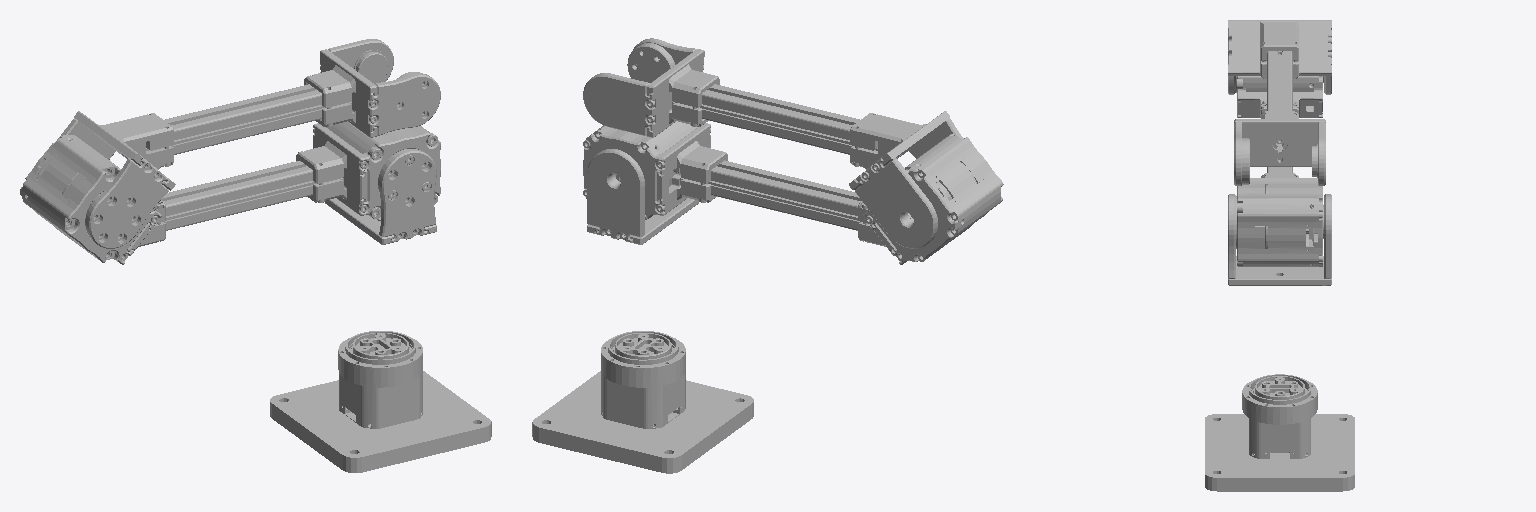
robot.urdf — arm_description:
<?xml version="1.0" encoding="utf-8"?>
<!-- This URDF was automatically created by SolidWorks to URDF Exporter! Originally created by [author] ([email redacted]) 
     Commit Version: 1.6.0-4-g7f85cfe  Build Version: 1.6.7995.38578
     For more information, please see http://wiki.ros.org/sw_urdf_exporter -->
<robot
  name="arm_description">
  <link
    name="base_link">
    <inertial>
      <origin
        xyz="0.000580729801218715 0.000594257238339935 0.0138627214076124"
        rpy="0 0 0" />
      <mass
        value="0.577681125567092" />
      <inertia
        ixx="0.000440477275812713"
        ixy="3.07910264277379E-05"
        ixz="1.05412703444915E-07"
        iyy="0.000440711546924099"
        iyz="8.21266138002711E-08"
        izz="0.000838744842125512" />
    </inertial>
    <visual>
      <origin
        xyz="0 0 0"
        rpy="0 0 0" />
      <geometry>
        <mesh
          filename="package://arm_description/meshes/base_link.STL" />
      </geometry>
      <material
        name="">
        <color
          rgba="0.752941176470588 0.752941176470588 0.752941176470588 1" />
      </material>
    </visual>
    <collision>
      <origin
        xyz="0 0 0"
        rpy="0 0 0" />
      <geometry>
        <mesh
          filename="package://arm_description/meshes/base_link.STL" />
      </geometry>
    </collision>
  </link>
  <link
    name="Link_1">
    <inertial>
      <origin
        xyz="5.24644356084125E-09 -0.00226935002516255 0.0269059764515369"
        rpy="0 0 0" />
      <mass
        value="0.160224572824666" />
      <inertia
        ixx="5.78340495593595E-05"
        ixy="-1.12901342565449E-12"
        ixz="3.21170933594114E-11"
        iyy="5.53191645825308E-05"
        iyz="-8.10768517081018E-07"
        izz="5.03363750358881E-05" />
    </inertial>
    <visual>
      <origin
        xyz="0 0 0"
        rpy="0 0 0" />
      <geometry>
        <mesh
          filename="package://arm_description/meshes/Link_1.STL" />
      </geometry>
      <material
        name="">
        <color
          rgba="0.752941176470588 0.752941176470588 0.752941176470588 1" />
      </material>
    </visual>
    <collision>
      <origin
        xyz="0 0 0"
        rpy="0 0 0" />
      <geometry>
        <mesh
          filename="package://arm_description/meshes/Link_1.STL" />
      </geometry>
    </collision>
  </link>
  <joint
    name="Joint_1"
    type="revolute">
    <origin
      xyz="0 0 0.0587"
      rpy="0 0 0" />
    <parent
      link="base_link" />
    <child
      link="Link_1" />
    <axis
      xyz="0 0 1" />
    <limit
      lower="-3.14"
      upper="3.14"
      effort="1.11"
      velocity="100.11" />
  </joint>
  <link
    name="Link_2">
    <inertial>
      <origin
        xyz="0.10000 0.01061165 0.0346733369707856"
        rpy="0 0 0" />
      <mass
        value="1.4000" />
      <inertia
        ixx="0.000176770166827269"
        ixy="1.45565467561441E-06"
        ixz="-3.34686431377792E-07"
        iyy="0.000359576824397334"
        iyz="9.92982961301292E-08"
        izz="0.000445920617902061" />
    </inertial>
    <visual>
      <origin
        xyz="0 0 0"
        rpy="0 0 0" />
      <geometry>
        <mesh
          filename="package://arm_description/meshes/Link_2.STL" />
      </geometry>
      <material
        name="">
        <color
          rgba="0.752941176470588 0.752941176470588 0.752941176470588 1" />
      </material>
    </visual>
    <collision>
      <origin
        xyz="0 0 0"
        rpy="0 0 0" />
      <geometry>
        <mesh
          filename="package://arm_description/meshes/Link_2.STL" />
      </geometry>
    </collision>
  </link>
  <joint
    name="Joint_2"
    type="revolute">
    <origin
      xyz="0 -0.03525 0.0472"
      rpy="1.5708 0 -3.1416" />
    <parent
      link="Link_1" />
    <child
      link="Link_2" />
    <axis
      xyz="0 0 1" />
    <limit
      lower="-3.14"
      upper="3.14"
      effort="1.11"
      velocity="100.11" />
  </joint>
  <link
    name="Link_3">
    <inertial>
      <origin
        xyz="0.14000 -0.0258791787102304 0.0342371663122825"
        rpy="0 0 0" />
      <mass
        value="0.47" />
      <inertia
        ixx="0.000104459518816998"
        ixy="4.10997957100013E-06"
        ixz="2.44233607003561E-07"
        iyy="0.000295954517315169"
        iyz="-5.73301400175702E-07"
        izz="0.000298125677435807" />
    </inertial>
    <visual>
      <origin
        xyz="0 0 0"
        rpy="0 0 0" />
      <geometry>
        <mesh
          filename="package://arm_description/meshes/Link_3.STL" />
      </geometry>
      <material
        name="">
        <color
          rgba="0.752941176470588 0.752941176470588 0.752941176470588 1" />
      </material>
    </visual>
    <collision>
      <origin
        xyz="0 0 0"
        rpy="0 0 0" />
      <geometry>
        <mesh
          filename="package://arm_description/meshes/Link_3.STL" />
      </geometry>
    </collision>
  </link>
  <joint
    name="Joint_3"
    type="revolute">
    <origin
      xyz="0.23882 0.025456 0"
      rpy="0 0 3.1416" />
    <parent
      link="Link_2" />
    <child
      link="Link_3" />
    <axis
      xyz="0 0 -1" />
    <limit
      lower="-3.14"
      upper="3.14"
      effort="1.11"
      velocity="100.11" />
  </joint>
  <link
    name="Link_4">
    <inertial>
      <origin
        xyz="0.02231646 -0.01000 0.0309045034202118"
        rpy="0 0 0" />
      <mass
        value="0.5000" />
      <inertia
        ixx="4.98253735749115E-05"
        ixy="4.06718946477512E-06"
        ixz="-6.98716282428905E-08"
        iyy="6.65735705336771E-05"
        iyz="2.70219024644377E-08"
        izz="8.03771952558554E-05" />
    </inertial>
    <visual>
      <origin
        xyz="0 0 0"
        rpy="0 0 0" />
      <geometry>
        <mesh
          filename="package://arm_description/meshes/Link_4.STL" />
      </geometry>
      <material
        name="">
        <color
          rgba="0.752941176470588 0.752941176470588 0.752941176470588 1" />
      </material>
    </visual>
    <collision>
      <origin
        xyz="0 0 0"
        rpy="0 0 0" />
      <geometry>
        <mesh
          filename="package://arm_description/meshes/Link_4.STL" />
      </geometry>
    </collision>
  </link>
  <joint
    name="Joint_4"
    type="revolute">
    <origin
      xyz="0.24753 -0.032173 0.00505"
      rpy="0 0 0" />
    <parent
      link="Link_3" />
    <child
      link="Link_4" />
    <axis
      xyz="0 0 1" />
    <limit
      lower="-3.14"
      upper="3.14"
      effort="1.11"
      velocity="100.11" />
  </joint>
  <link
    name="Link_5">
    <inertial>
      <origin
        xyz="-6.834E-05 0.005 -0.03014484"
        rpy="0 0 0" />
      <mass
        value="0.2240000" />
      <inertia
        ixx="1.33557993744373E-05"
        ixy="-1.05249601159428E-10"
        ixz="-8.23823830487167E-08"
        iyy="2.10151224363195E-05"
        iyz="-1.06649623110132E-07"
        izz="1.31422737791213E-05" />
    </inertial>
    <visual>
      <origin
        xyz="0 0 0"
        rpy="0 0 0" />
      <geometry>
        <mesh
          filename="package://arm_description/meshes/Link_5.STL" />
      </geometry>
      <material
        name="">
        <color
          rgba="0.752941176470588 0.752941176470588 0.752941176470588 1" />
      </material>
    </visual>
    <collision>
      <origin
        xyz="0 0 0"
        rpy="0 0 0" />
      <geometry>
        <mesh
          filename="package://arm_description/meshes/Link_5.STL" />
      </geometry>
    </collision>
  </link>
  <joint
    name="Joint_5"
    type="revolute">
    <origin
      xyz="0.063977 -0.035002 0.03015"
      rpy="1.5708 -1.5708 0" />
    <parent
      link="Link_4" />
    <child
      link="Link_5" />
    <axis
      xyz="0 0 -1" />
    <limit
      lower="-3.14"
      upper="3.14"
      effort="1.11"
      velocity="100.11" />
  </joint>
  <link
    name="Link_6">
    <inertial>
      <origin
        xyz="1.83198485845665E-05 1.95190519005108E-05 0.0600000"
        rpy="0 0 0" />
      <mass
        value="0.38" />
      <inertia
        ixx="0.000405465521516909"
        ixy="8.23849915931215E-08"
        ixz="-1.411672841195E-08"
        iyy="2.4293904094606E-05"
        iyz="-8.40048811483653E-09"
        izz="0.000417491022390122" />
    </inertial>
    <visual>
      <origin
        xyz="0 0 0"
        rpy="0 0 0" />
      <geometry>
        <mesh
          filename="package://arm_description/meshes/Link_6.STL" />
      </geometry>
      <material
        name="">
        <color
          rgba="0.752941176470588 0.752941176470588 0.752941176470588 1" />
      </material>
    </visual>
    <collision>
      <origin
        xyz="0 0 0"
        rpy="0 0 0" />
      <geometry>
        <mesh
          filename="package://arm_description/meshes/Link_6.STL" />
      </geometry>
    </collision>
  </link>
  <joint
    name="Joint_6"
    type="revolute">
    <origin
      xyz="0 -0.025 -0.0325"
      rpy="1.5708 1.5708 0" />
    <parent
      link="Link_5" />
    <child
      link="Link_6" />
    <axis
      xyz="0 0 1" />
    <limit
      lower="-3.14"
      upper="3.14"
      effort="1.11"
      velocity="100.11" />
  </joint>
</robot>

--- Facts derived from the render (not from the file) ---
Views: 3 orthographic renders of the robot side by side, from view 1: azimuth 30°, elevation 25°; view 2: azimuth 150°, elevation 25°; view 3: azimuth 270°, elevation 25°.
Model arm_description with 7 links and 6 joints (6 revolute), rooted at base_link, posed every joint at zero.
Visible links, largest first — view 1: Link_3, Link_2, base_link, Link_1; view 2: Link_3, Link_2, base_link, Link_1; view 3: base_link, Link_3, Link_2, Link_1.
Link boxes in pixels (x1,y1,x2,y2): Link_3: (54,39,440,248); Link_2: (20,121,440,264); base_link: (270,331,491,472); Link_1: (325,149,436,244); Link_3: (583,38,963,248); Link_2: (583,121,1003,264); base_link: (532,331,753,473); Link_1: (587,149,698,244); base_link: (1205,374,1354,491); Link_3: (1228,20,1331,185); Link_2: (1237,76,1322,266); Link_1: (1228,194,1331,285).
Bounding box of the posed robot: 0.3348 × 0.12 × 0.2857 m (x, y, z).
4 mesh visuals loaded from 7 distinct referenced files (4 binary STL); not drawn: 3 (reference not matched to a file when rendering).